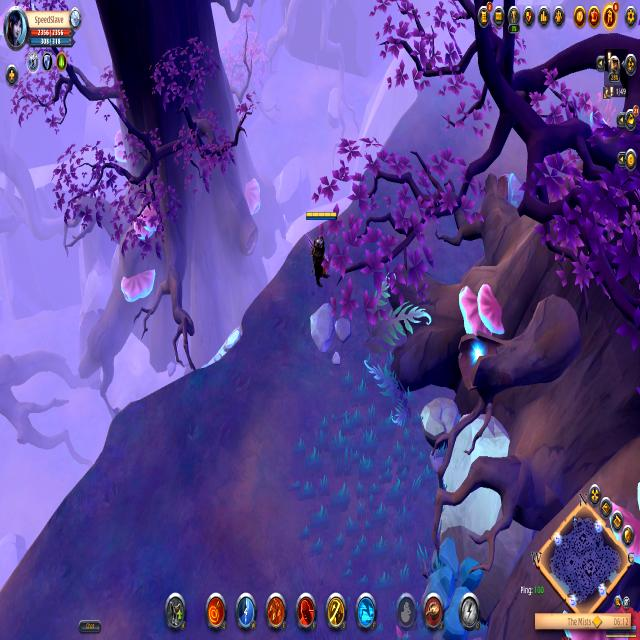red: (300, 202, 338, 292)
